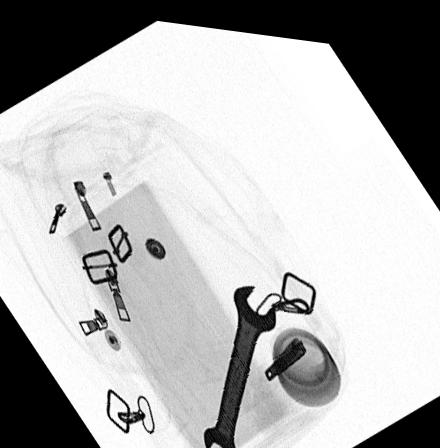Wrench: (202, 275, 277, 448)
